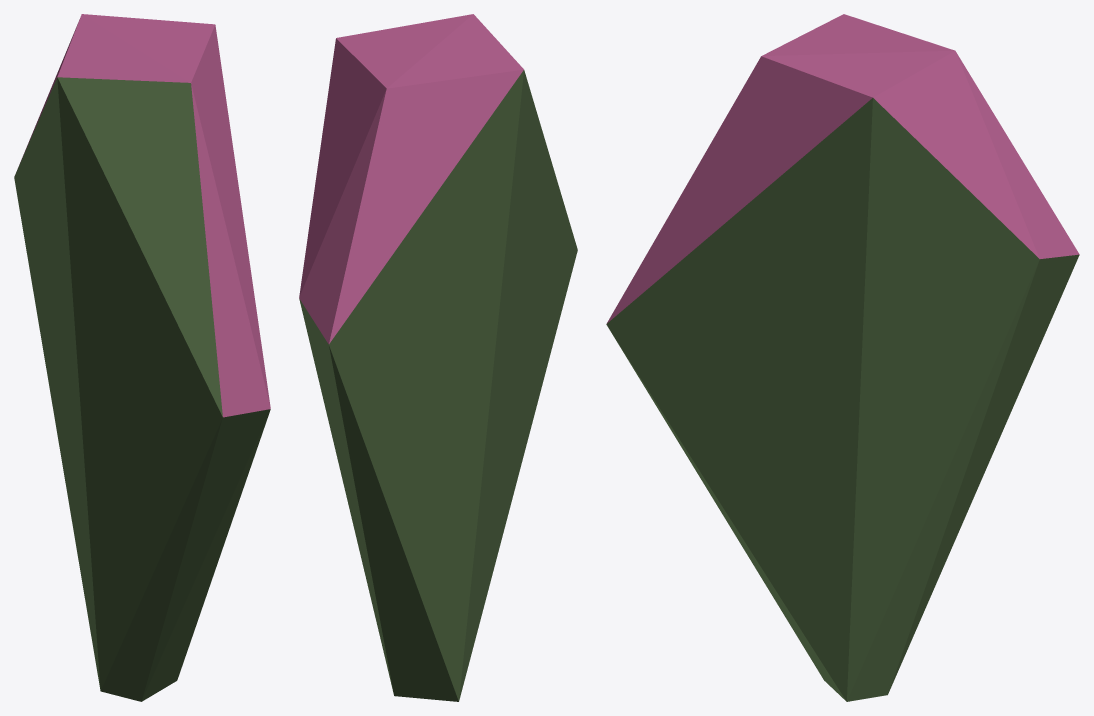
Rendered from CactusFlowers_3.lod4.glb.
3 views of the same model, side by side, from view 1: azimuth 30°, elevation 25°; view 2: azimuth 150°, elevation 25°; view 3: azimuth 270°, elevation 25° (orthographic).
Parts seen in each view (by area): view 1: CactusFlowers_3; view 2: CactusFlowers_3; view 3: CactusFlowers_3.
Part boxes in pixels (x1,y1,x2,y2): CactusFlowers_3: (14, 14, 270, 701); CactusFlowers_3: (299, 14, 577, 701); CactusFlowers_3: (606, 14, 1079, 701).
Bounding box in the file's own units: 0.4701 × 1.66 × 1.12.
